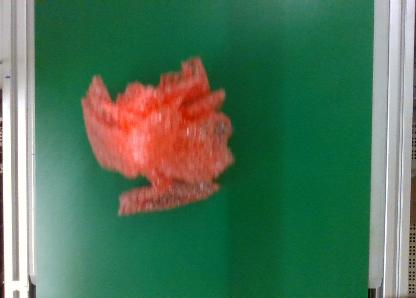Others: (73, 57, 237, 217)
